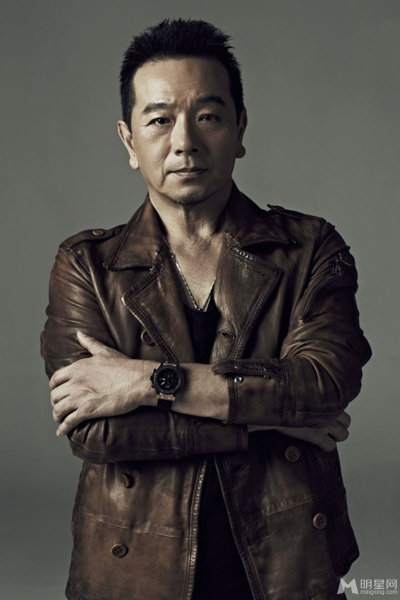male: (104, 15, 268, 223)
